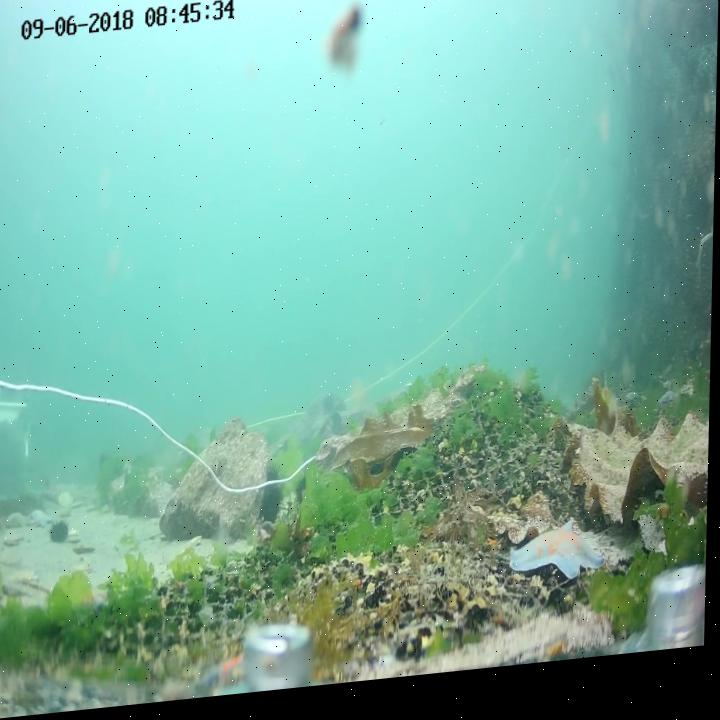echinus: (257, 472, 288, 529), (52, 521, 72, 549)
scallop: (0, 548, 27, 567), (6, 532, 27, 549)
starfish: (510, 524, 614, 606), (205, 654, 251, 697), (7, 564, 42, 589), (85, 585, 112, 615), (4, 509, 29, 535), (30, 508, 52, 530)
